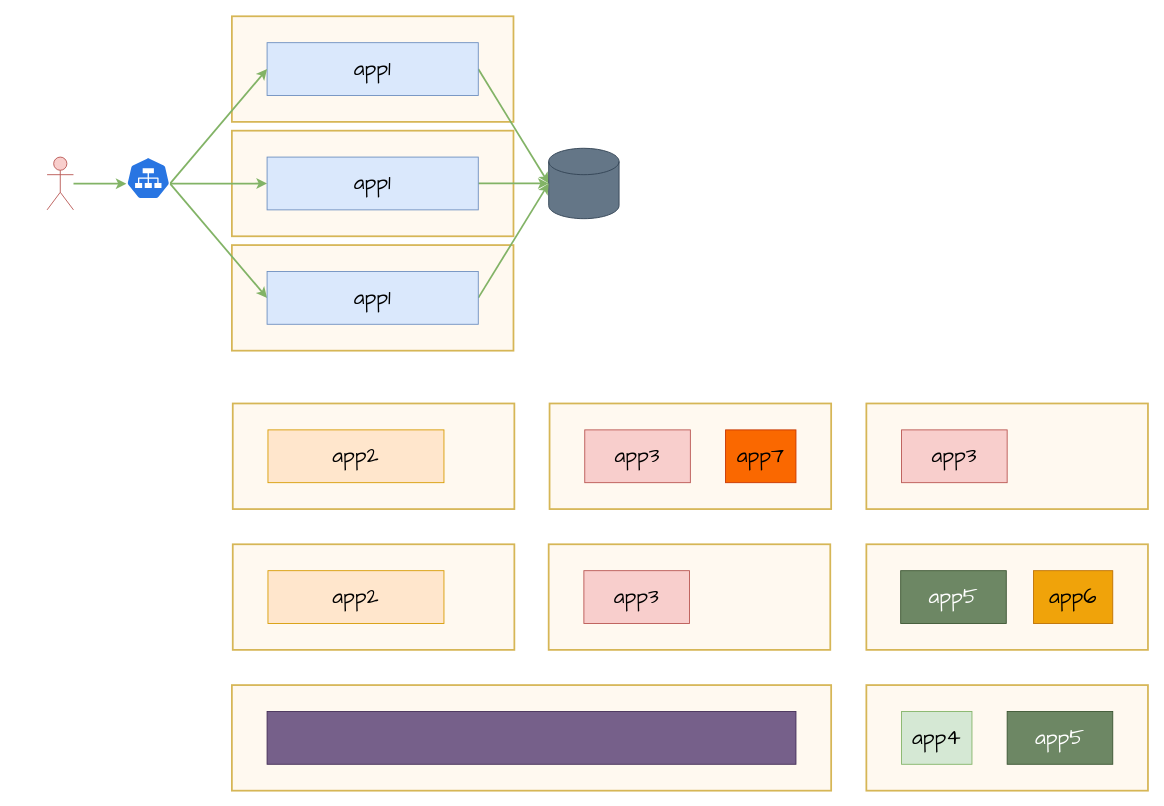
Some shapes in this 1164 by 806 pixel diagram are drawn without their labels. The shapes that lost their labels are listed below. From the top down, each one's centre as x and y in pixels, then its label:
pixel 59 183: Пользователь
pixel 583 183: DB
pixel 531 737: app8
